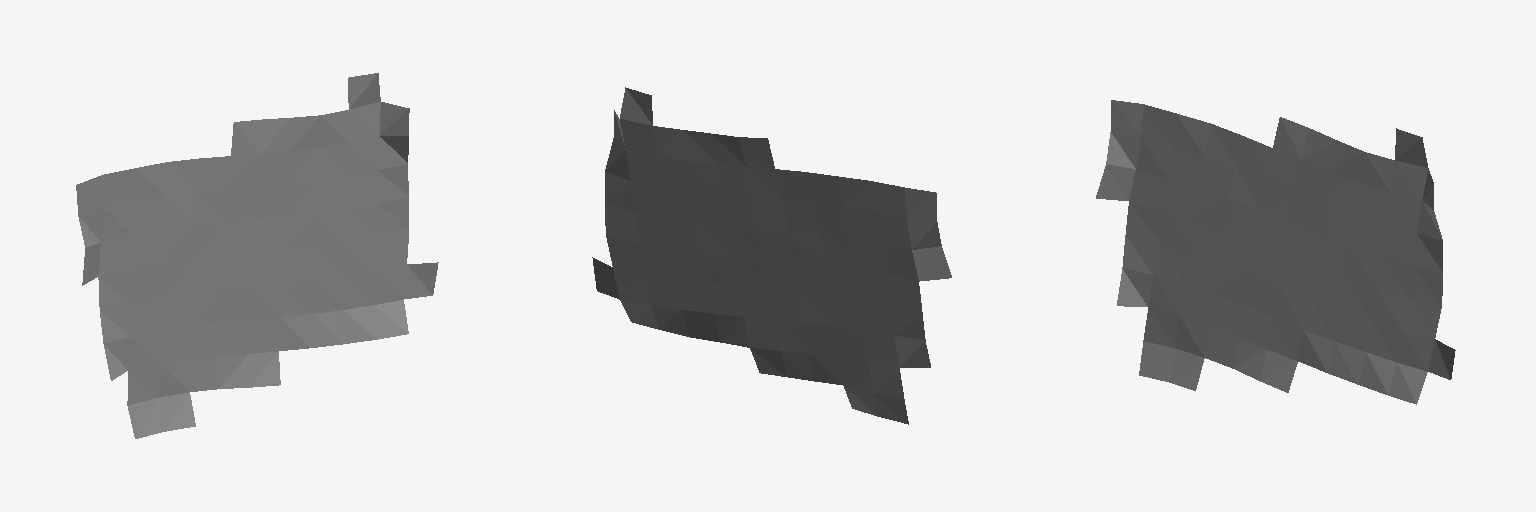
File: TabletMesh.obj
The picture shows the model from 3 angles: view 1: azimuth 30°, elevation 25°; view 2: azimuth 150°, elevation 25°; view 3: azimuth 330°, elevation 25°; orthographic projection.
Visible parts, largest first — view 1: default; view 2: default; view 3: default.
Boxes of the visible parts, x1,y1,x2,y2 form: default: [76, 73, 438, 438]; default: [592, 87, 951, 424]; default: [1096, 100, 1455, 404].
Bounding box in the file's own units: 5.72 × 4.39 × 0.6722.